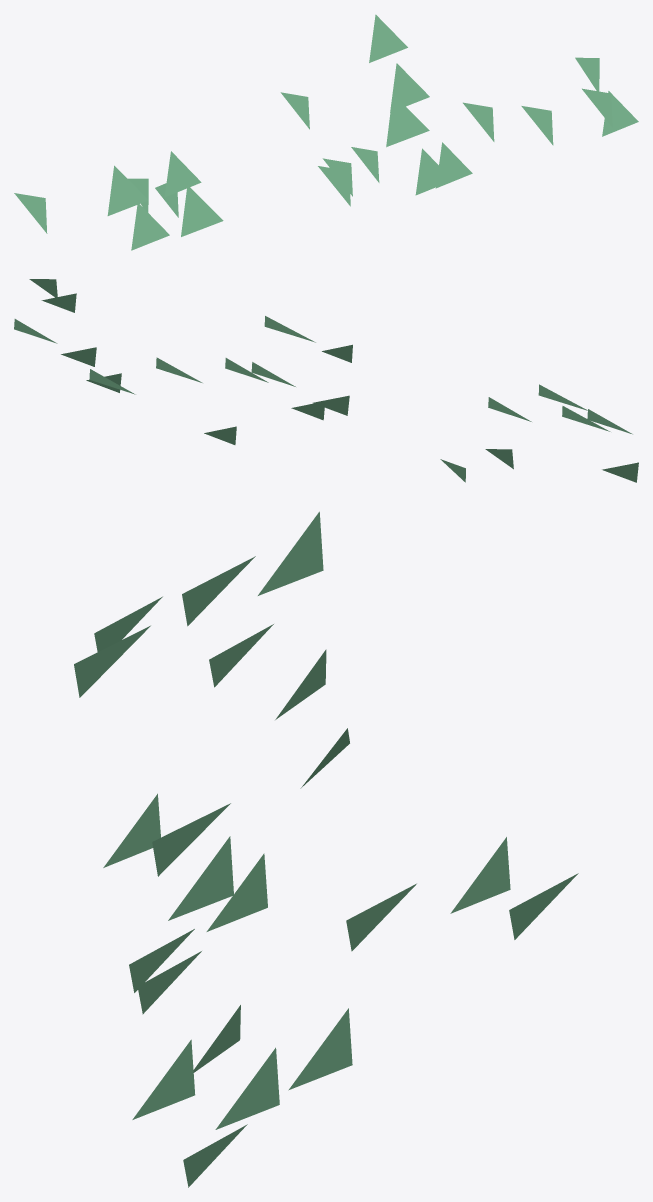
File: xiyuan-vegetation-04-far.glb
3 views of the same model, one above another, from view 1: azimuth 30°, elevation 25°; view 2: azimuth 150°, elevation 25°; view 3: azimuth 270°, elevation 25° (orthographic). The views are drawn at different scales.
Visible parts, largest first — view 1: scalloped lotus leaves.003; view 2: scalloped lotus leaves.003; view 3: scalloped lotus leaves.003.
Part boxes in pixels (box(x1,y1,x2,y2)): scalloped lotus leaves.003: box(14, 14, 638, 250); scalloped lotus leaves.003: box(14, 279, 638, 482); scalloped lotus leaves.003: box(74, 511, 578, 1187).
Bounding box in the file's own units: 10.96 × 1.58 × 4.05.
